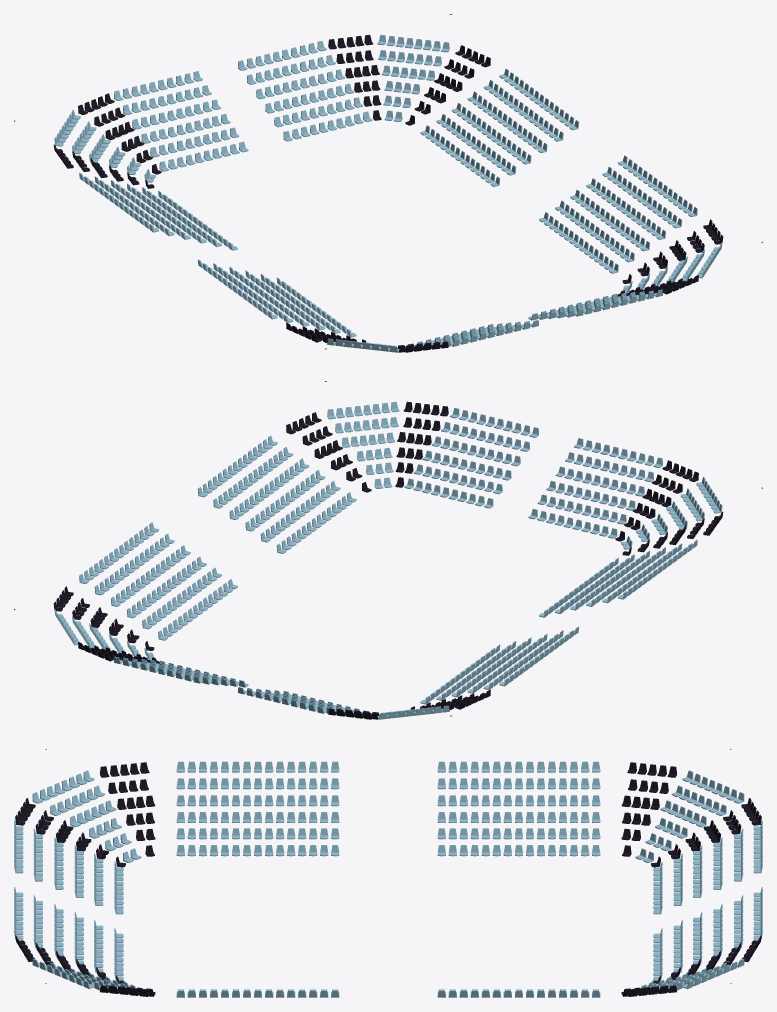
The model's file is SM_ChairFull.fbx.
3 renders of one model, top to bottom at view 1: azimuth 30°, elevation 25°; view 2: azimuth 150°, elevation 25°; view 3: azimuth 270°, elevation 25°, orthographic. The views are drawn at different scales.
Visible parts, largest first — view 1: SM_ChairFull; view 2: SM_ChairFull; view 3: SM_ChairFull.
Boxes of the visible parts, x1,y1,x2,y2 form: SM_ChairFull: [14, 14, 762, 352]; SM_ChairFull: [14, 381, 762, 719]; SM_ChairFull: [14, 749, 762, 997].
Bounding box in the file's own units: 6949 × 806 × 9354.
